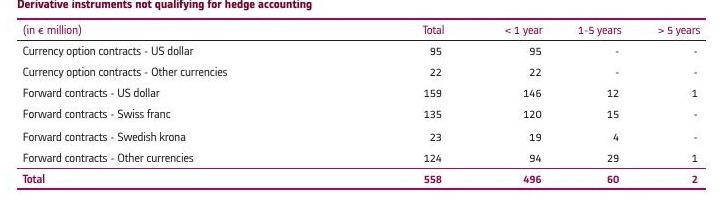table: (0, 0, 725, 204)
